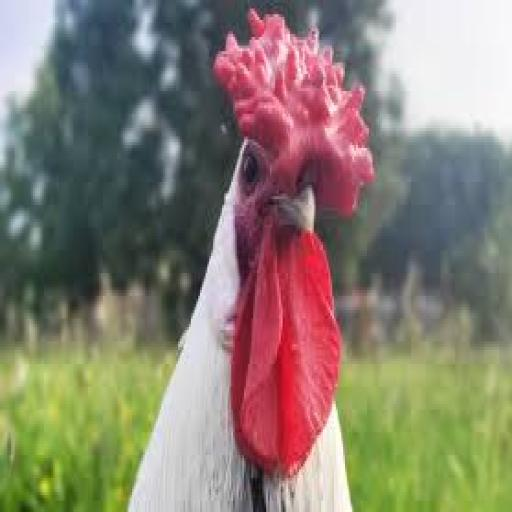disease: (215, 12, 382, 184)
